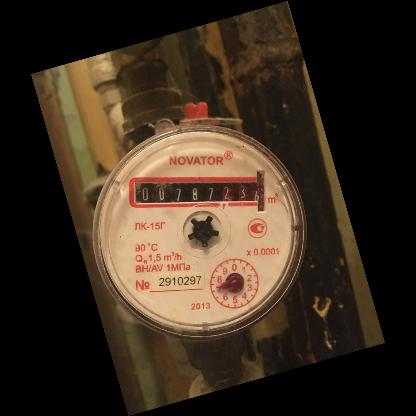digital_screen: (126, 174, 223, 206)
